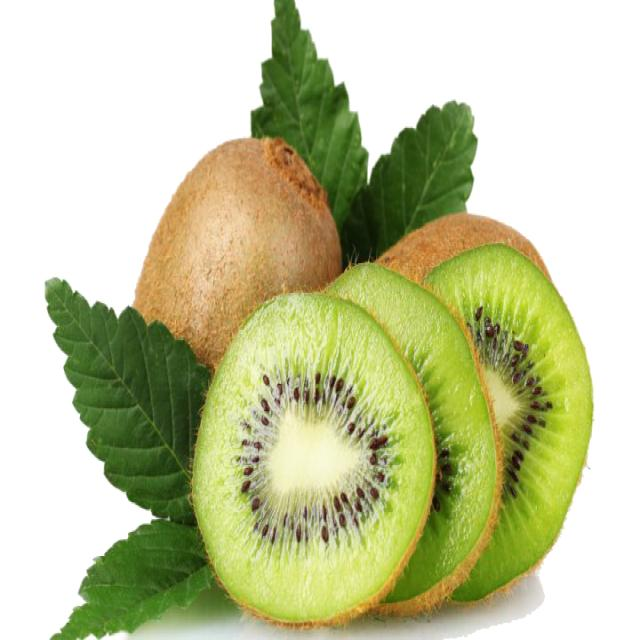Qiwi: (197, 299, 426, 637), (118, 126, 330, 316)
